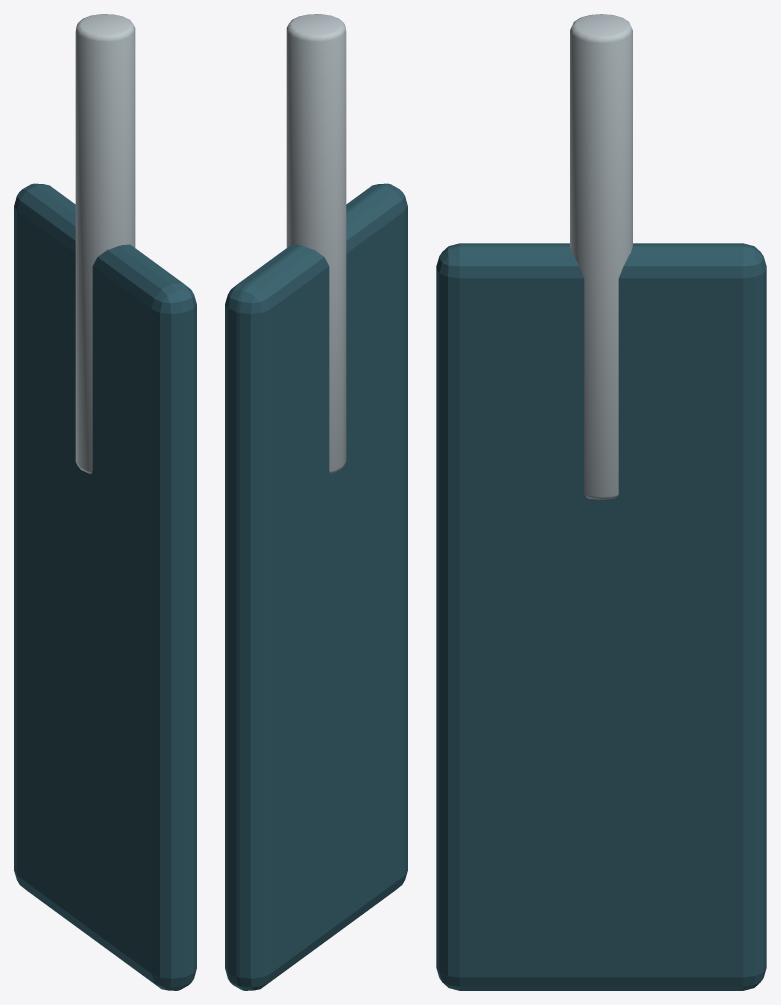
File: rudder.glb
3 renders of one model, left to right at view 1: azimuth 30°, elevation 25°; view 2: azimuth 150°, elevation 25°; view 3: azimuth 270°, elevation 25°, orthographic. The views are drawn at different scales.
Parts seen in each view (by area): view 1: Hydrodynamic rudder, Rudder stock; view 2: Hydrodynamic rudder, Rudder stock; view 3: Hydrodynamic rudder, Rudder stock.
Part boxes in pixels (x1,y1,x2,y2): Hydrodynamic rudder: (14, 183, 196, 990); Rudder stock: (75, 14, 135, 473); Hydrodynamic rudder: (225, 183, 407, 990); Rudder stock: (286, 14, 346, 473); Hydrodynamic rudder: (436, 243, 766, 990); Rudder stock: (570, 14, 632, 499).
Bounding box in the file's own units: 0.08 × 1.35 × 0.42.
